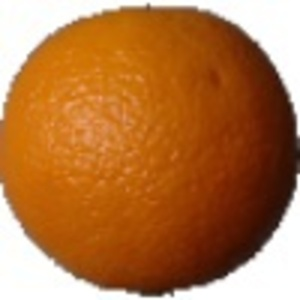laranja: (1, 3, 297, 298)
